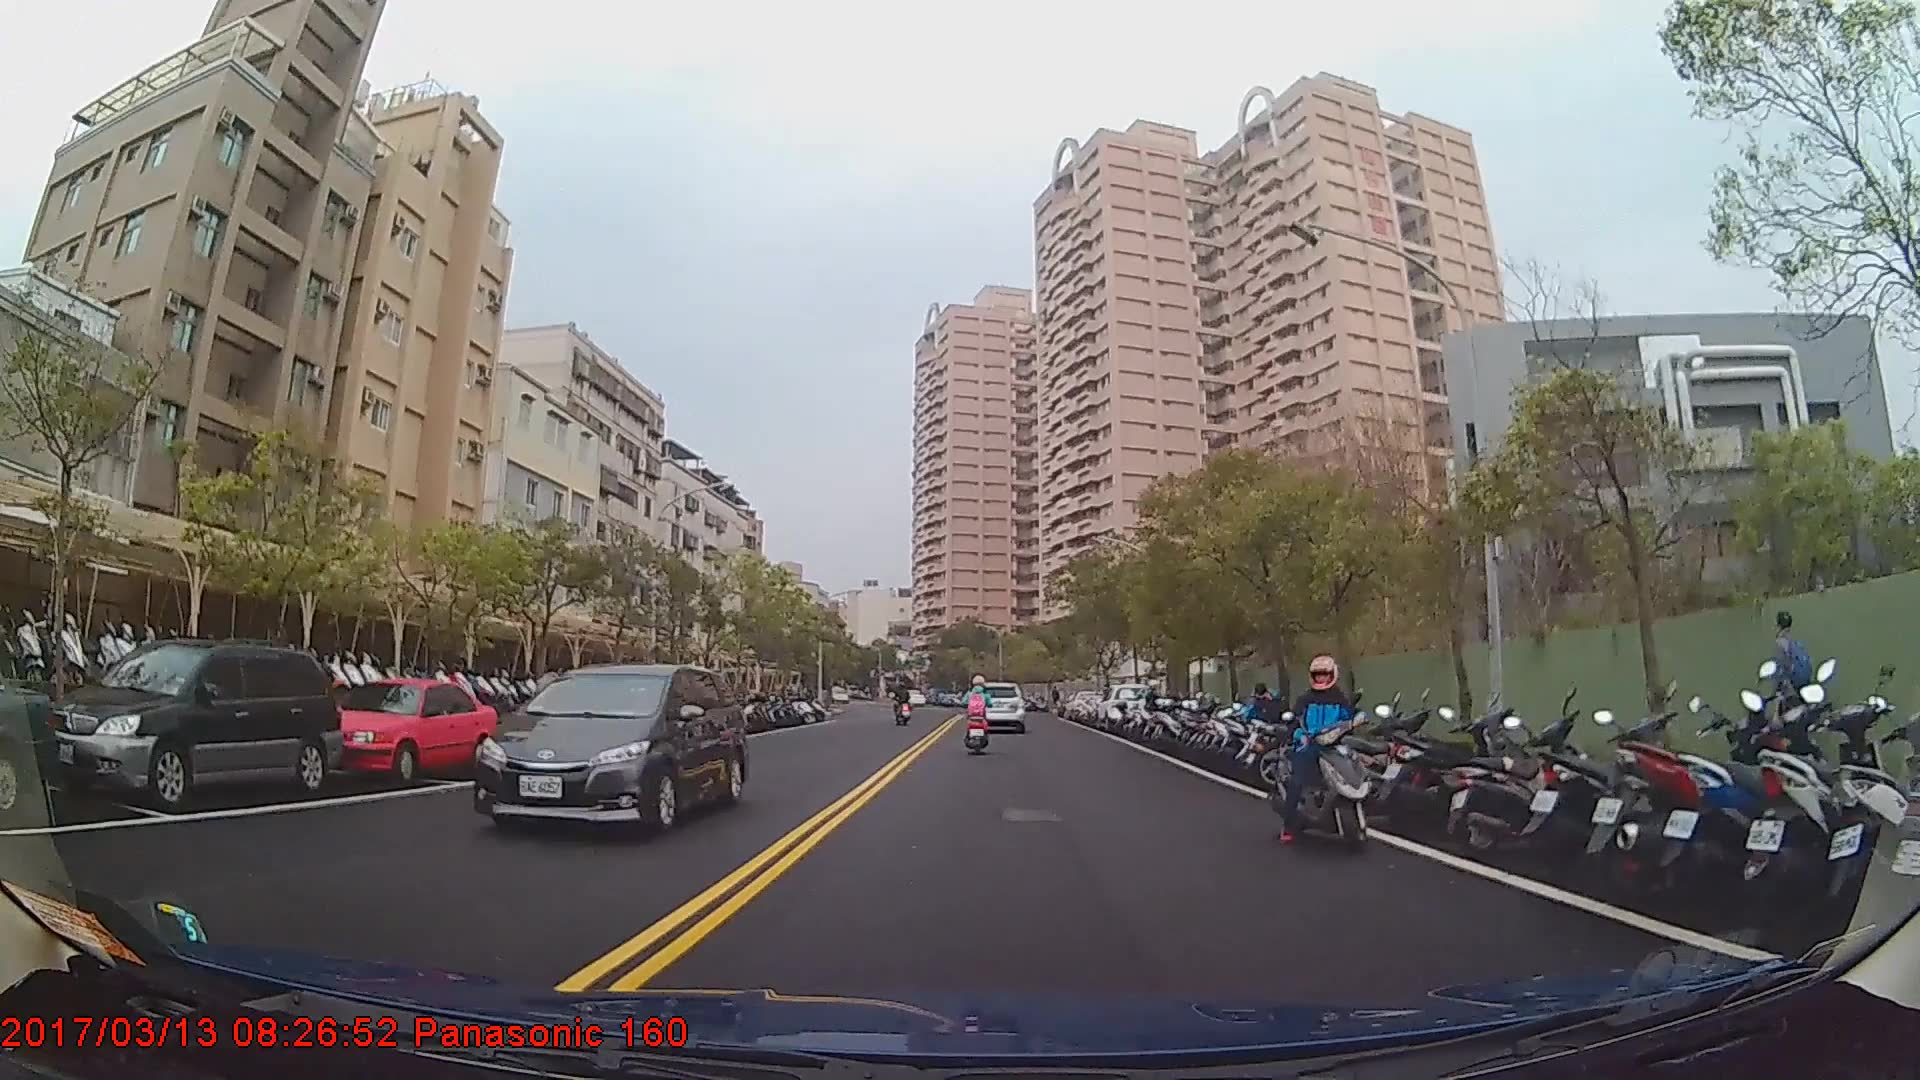pedestrian: (1753, 611, 1822, 804)
rider: (1272, 651, 1375, 849), (960, 676, 993, 752), (893, 680, 913, 723)
vehicle: (44, 636, 342, 806), (470, 661, 745, 841), (322, 678, 496, 785), (1092, 682, 1160, 734), (969, 680, 1024, 731)
